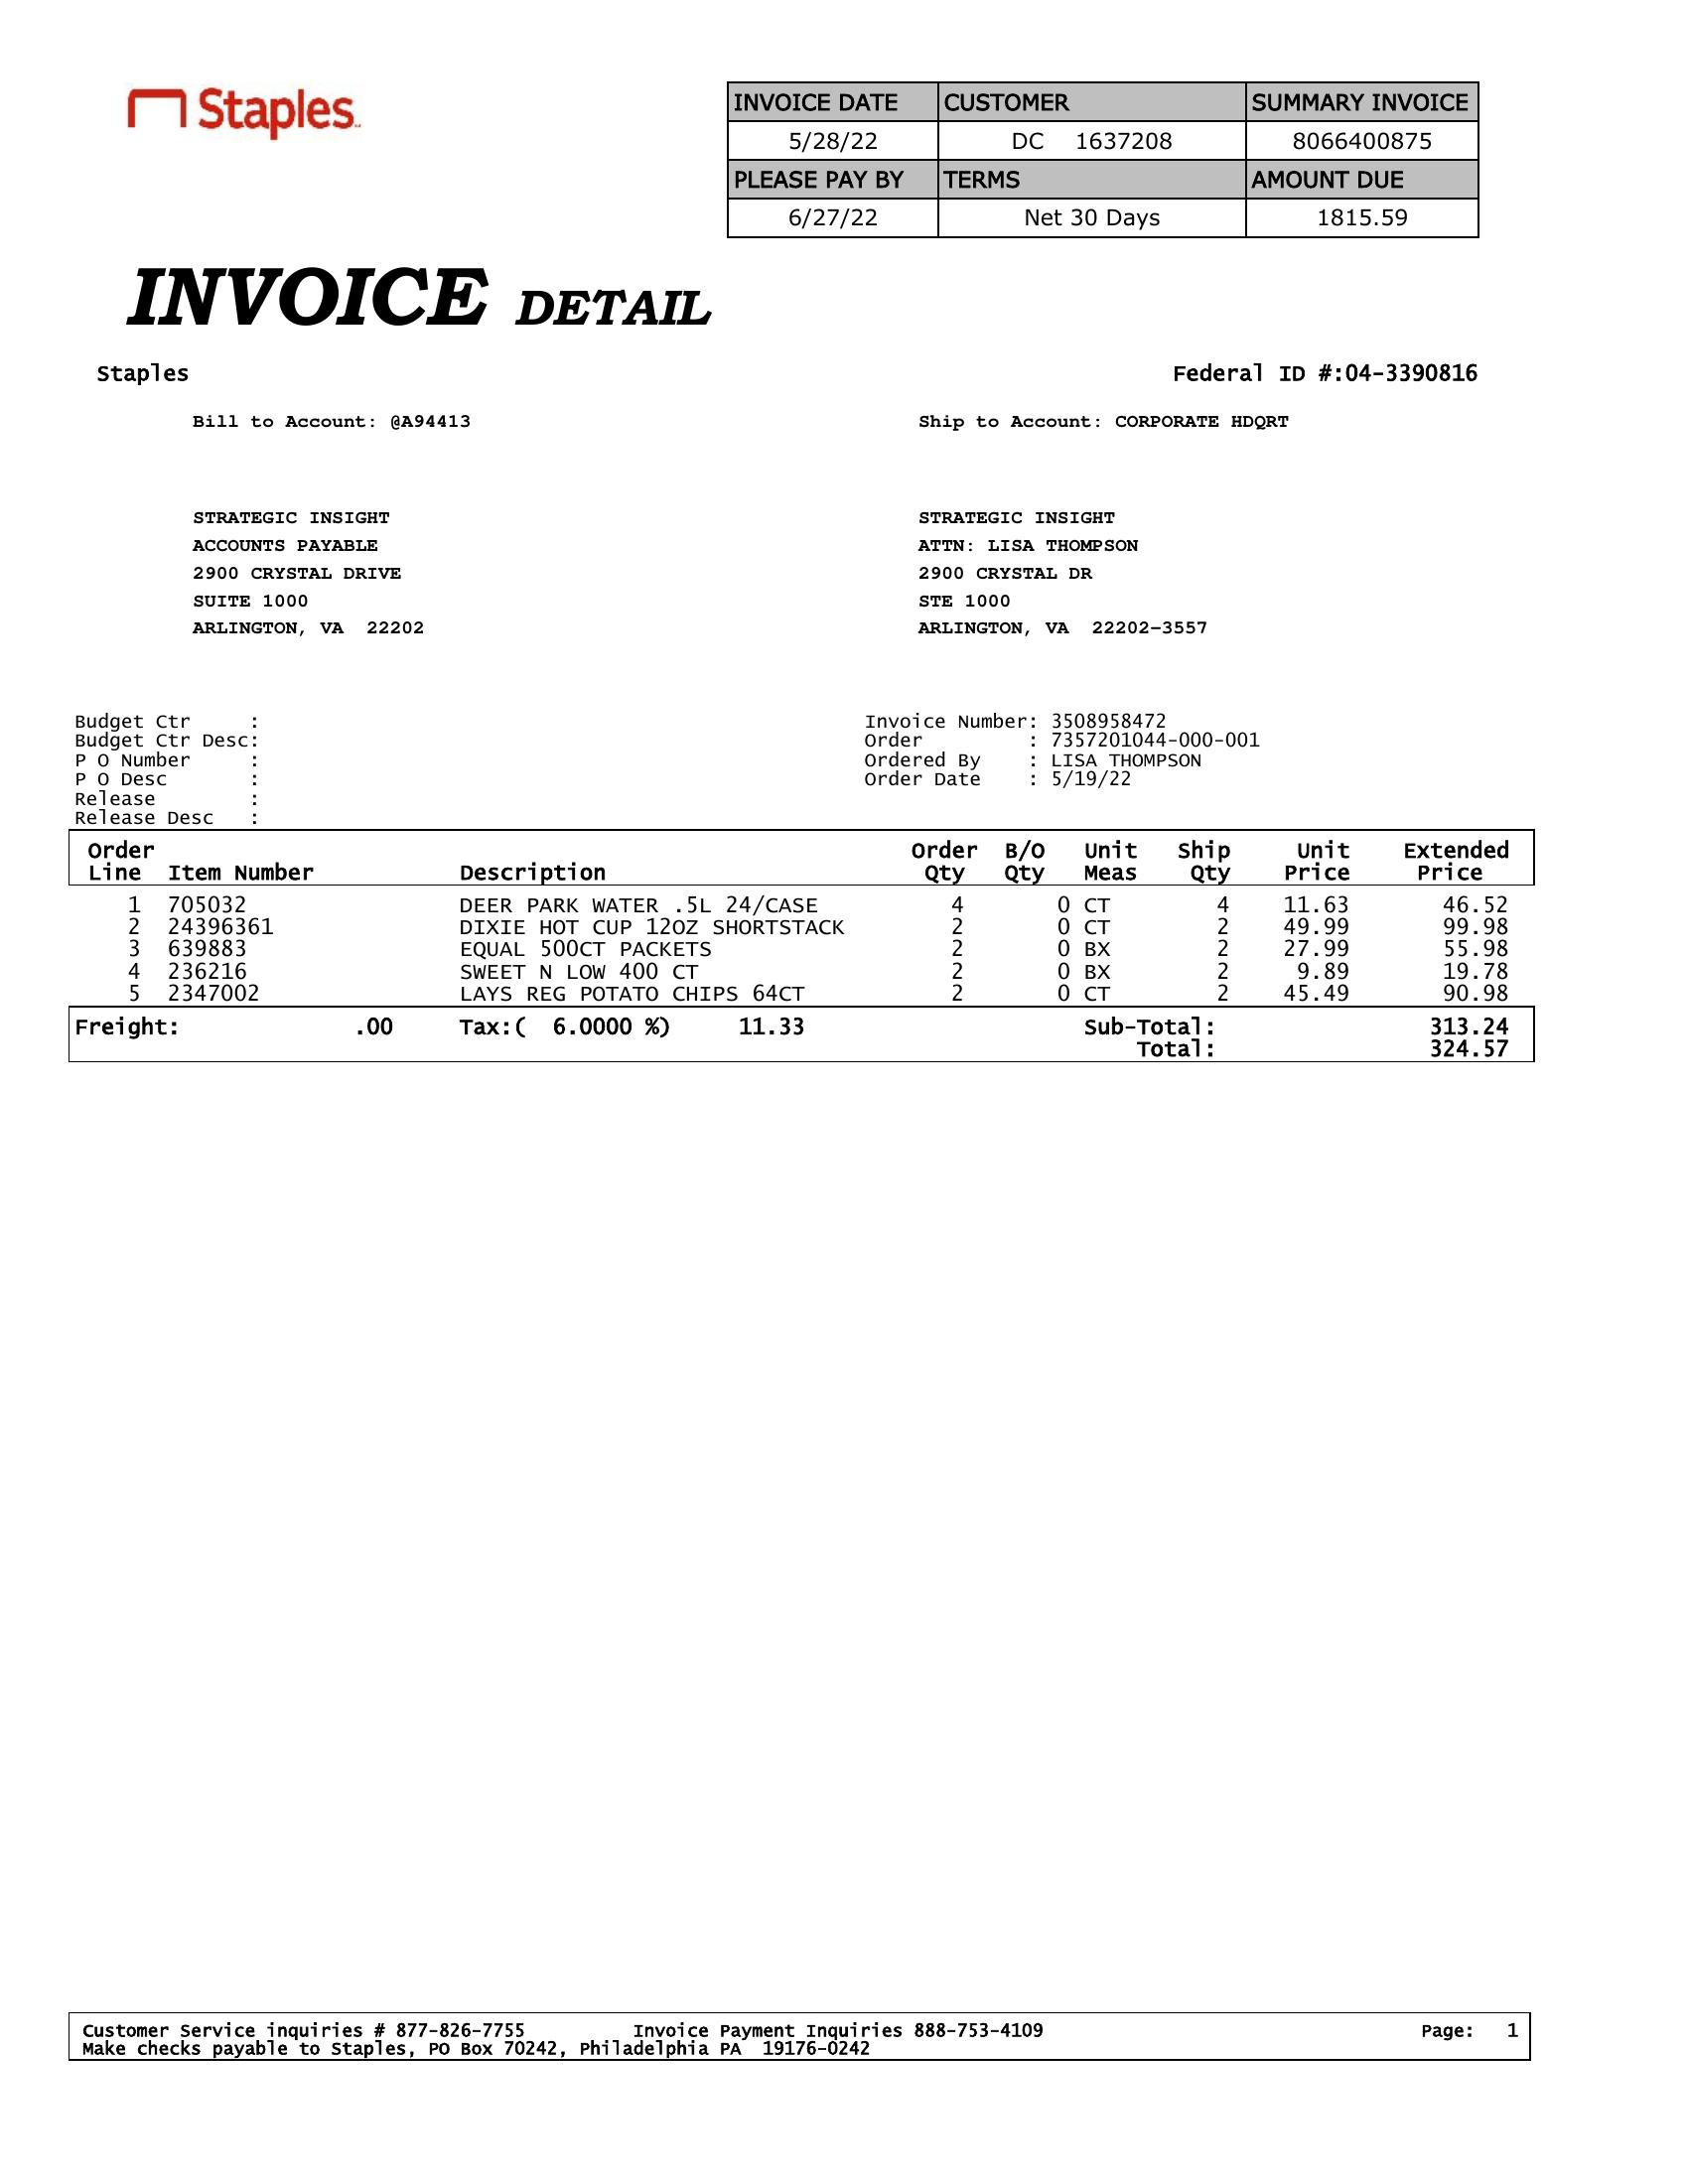table: (73, 826, 1539, 998), (718, 71, 1486, 234)
